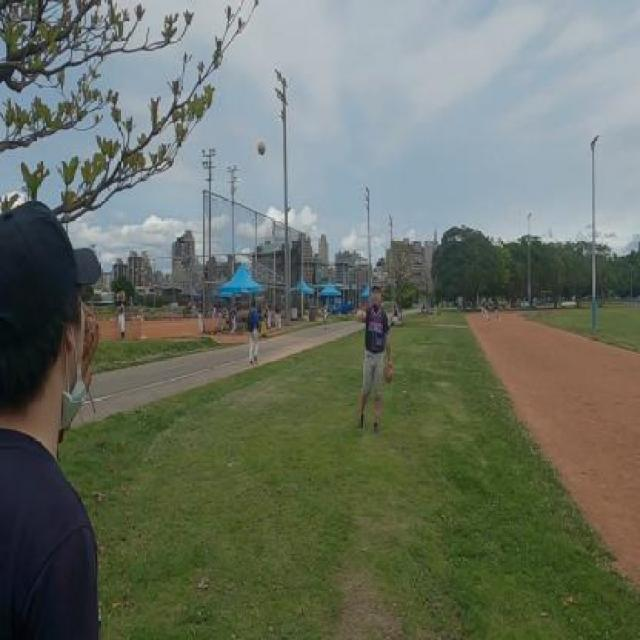baseball: (257, 140, 266, 157)
